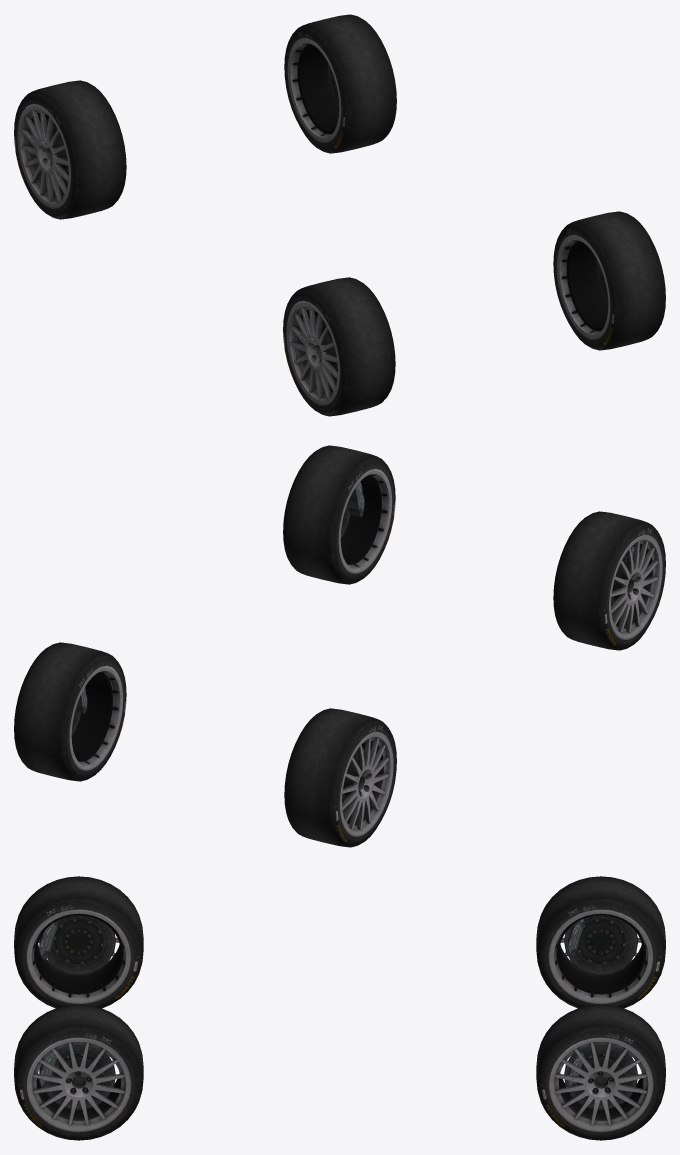
File: Tires.FBX
3 views of the same model, one above another, from view 1: azimuth 30°, elevation 25°; view 2: azimuth 150°, elevation 25°; view 3: azimuth 270°, elevation 25° (orthographic). The views are drawn at different scales.
Parts seen in each view (by area): view 1: Tire_RR, Tire_RF, Tire_LR, Tire_LF; view 2: Tire_RR, Tire_RF, Tire_LR, Tire_LF; view 3: Tire_LR, Tire_LF, Tire_RR, Tire_RF, Calliper_RF.
Part boxes in pixels (<box>): Tire_RR: <box>14,80,126,219</box>; Tire_RF: <box>283,277,395,416</box>; Tire_LR: <box>284,14,396,153</box>; Tire_LF: <box>553,211,665,350</box>; Tire_RR: <box>284,708,396,847</box>; Tire_RF: <box>553,511,665,650</box>; Tire_LR: <box>14,642,126,781</box>; Tire_LF: <box>283,445,395,584</box>; Tire_LR: <box>536,1004,665,1140</box>; Tire_LF: <box>14,1004,143,1140</box>; Tire_RR: <box>536,876,665,1008</box>; Tire_RF: <box>14,876,143,1008</box>; Calliper_RF: <box>39,920,58,960</box>.
Size of what is drawn, in the model's own units: 186 by 66.63 by 335.
